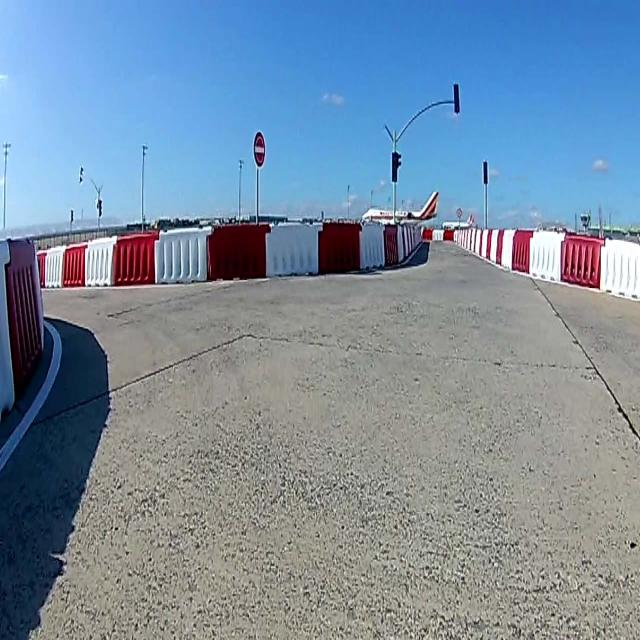girisyok: (251, 130, 267, 170)
